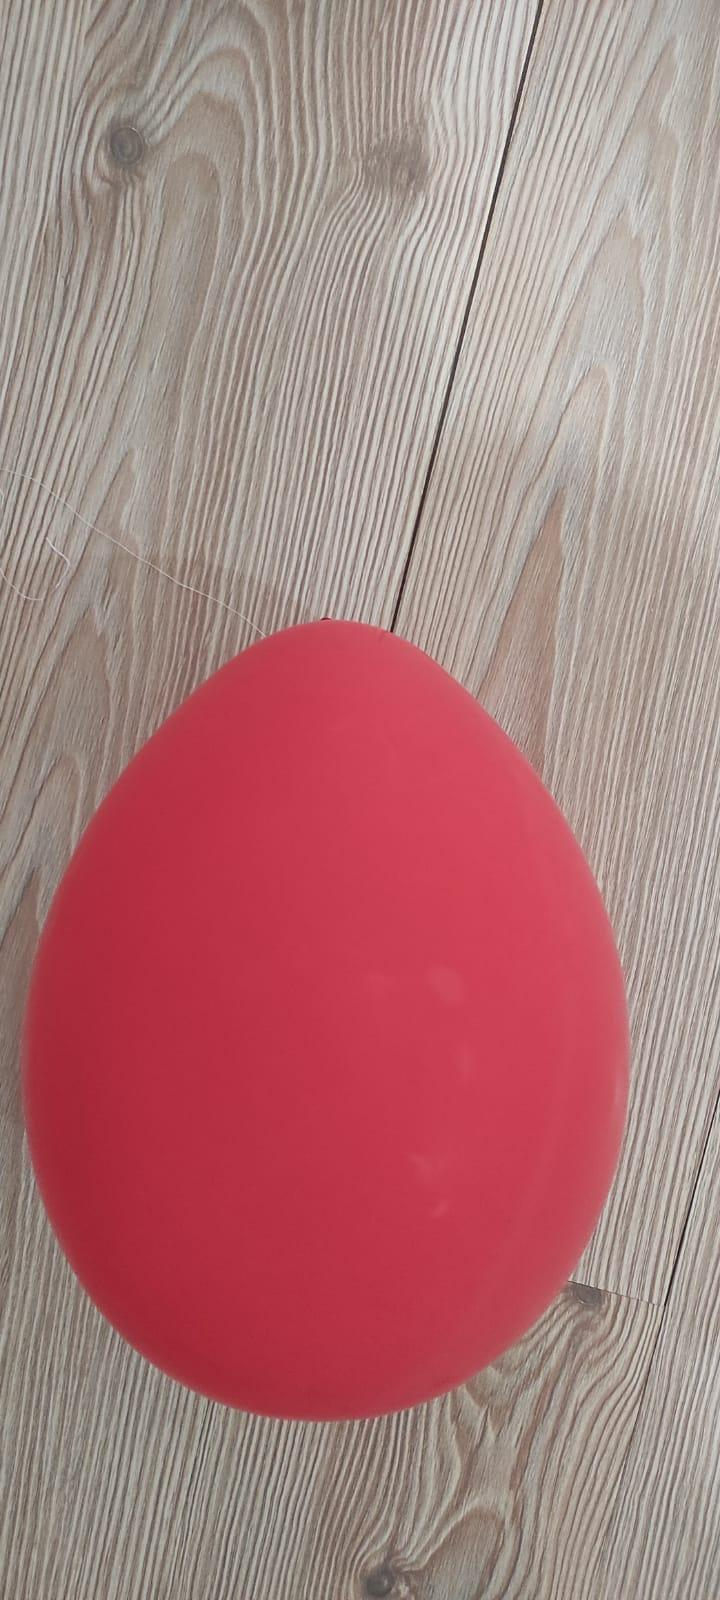red: (24, 607, 645, 1419)
